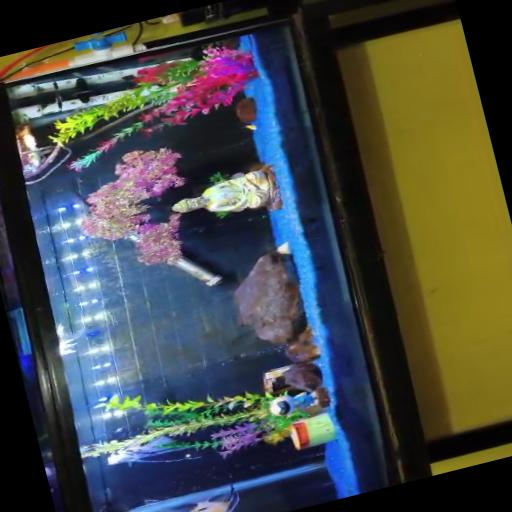Fish: (108, 435, 201, 464), (158, 485, 240, 511), (56, 323, 85, 354), (246, 124, 258, 129)
